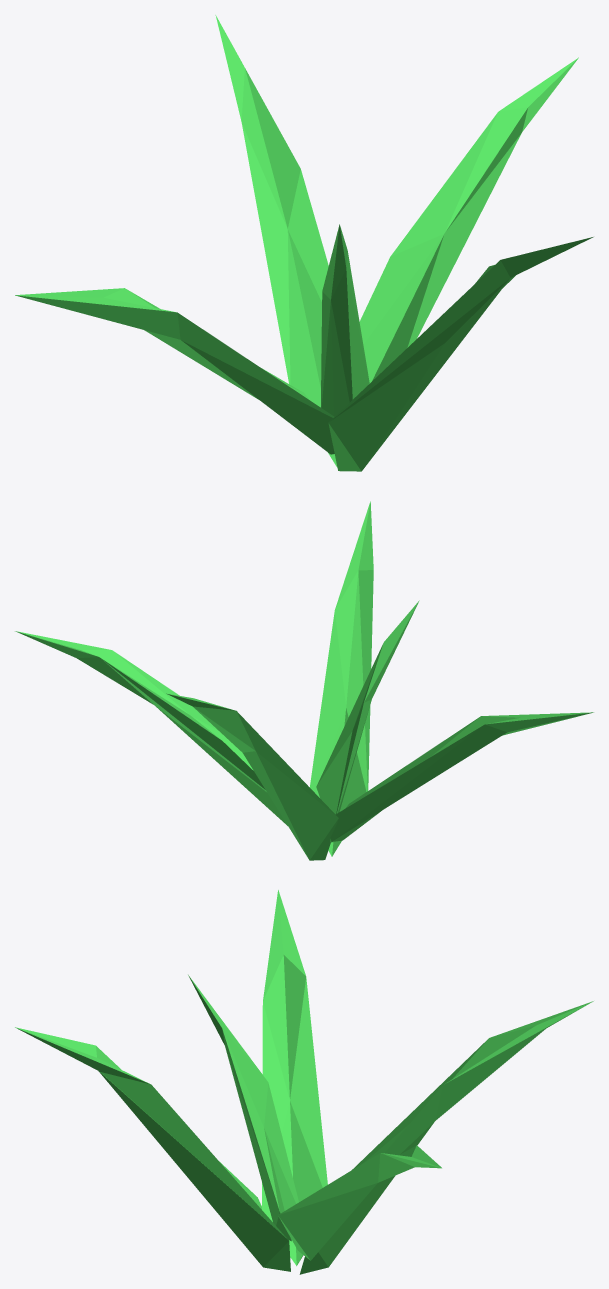
Rendered from desert_plant1.fbx.
3 views of the same model, one above another, from view 1: azimuth 30°, elevation 25°; view 2: azimuth 150°, elevation 25°; view 3: azimuth 270°, elevation 25° (orthographic). The views are drawn at different scales.
Parts seen in each view (by area): view 1: desert_plant1; view 2: desert_plant1; view 3: desert_plant1.
Boxes of the visible parts, bbox=[...] form: desert_plant1: bbox=[15, 15, 593, 471]; desert_plant1: bbox=[15, 501, 593, 860]; desert_plant1: bbox=[15, 890, 593, 1274].
Size of the model in its own units: 2.12 by 1 by 1.8.
